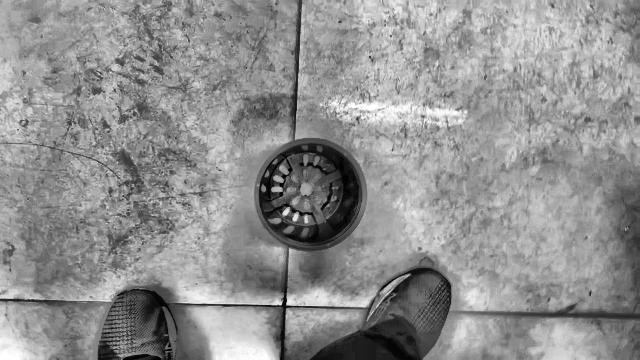pot: (253, 139, 366, 250)
